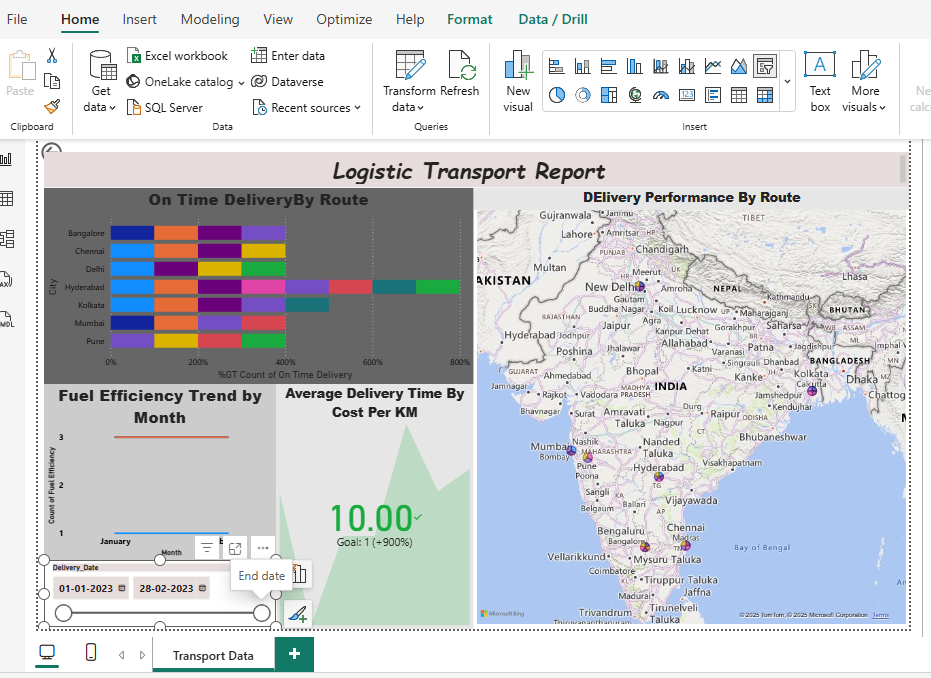

The page's visual inventory and layout, read from the dashboard file:
{"tool":"powerbi","page":{"name":"Transport Data","canvas":[1280,720],"ordinal":0},"visuals":[{"type":"barChart","title":"On Time DeliveryBy Route","fields":{"Category":["Projects (Trip_Data).Origin"],"Y":["Divide(CountNonNull(Vehicle_ID (Vehicle_Master).On Time Delivery), ScopedEval(CountNonNull(Vehicle_ID (Vehicle_Master).O"],"Series":["Projects (Trip_Data).Driver_ID"]},"box":[8.9,71.5,631.1,287.8],"z":0},{"type":"lineChart","title":"Fuel Efficiency Trend by Month","fields":{"Category":["Projects (Trip_Data).Delivery_Date.Variation.Date Hierarchy.Month"],"Y":["CountNonNull(Vehicle_ID (Vehicle_Master).Fuel Efficiency)"],"Series":["Vehicle_ID (Vehicle_Master).Vehicle_Type"]},"box":[8.8,360,340.9,258.6],"z":1000},{"type":"kpi","title":"Average Delivery Time By Cost Per KM","fields":{"Indicator":["Avg(Vehicle_ID (Vehicle_Master).Total No Trip)"],"TrendLine":["Vehicle_ID (Vehicle_Master).Total Distance_km"],"Goal":["CountNonNull(Vehicle_ID (Vehicle_Master).Cost Per Km)"]},"box":[350.4,359.7,289.6,359.7],"z":2000},{"type":"map","title":"DElivery Performance By Route","fields":{"Category":["Projects (Trip_Data).City"],"Series":["Vehicle_ID (Vehicle_Master).Vehicle_ID"],"Y":["Count(Projects (Trip_Data).Destination)"]},"box":[640,71.5,640,645.4],"z":3000},{"type":"actionButton","box":[0,0,100,40],"z":4000},{"type":"textbox","title":"Logistic Transport Report ","box":[8.9,19.7,1271.1,51.8],"z":5000},{"type":"slicer","fields":{"Values":["Projects (Trip_Data).Delivery_Date"]},"box":[8.8,618.6,340.9,98.4],"z":5001}]}

Visuals, with their boxes on the page's 1280x720 design canvas (x1, y1, x2, y2). These are canvas units, not pixel positions in the 931x678 screenshot, which may show the page scaled, cropped or inside an application window:
"On Time DeliveryBy Route" barChart: x1=9, y1=72, x2=640, y2=359
"Fuel Efficiency Trend by Month" lineChart: x1=9, y1=360, x2=350, y2=619
"Average Delivery Time By Cost Per KM" kpi: x1=350, y1=360, x2=640, y2=719
"DElivery Performance By Route" map: x1=640, y1=72, x2=1280, y2=717
actionButton: x1=0, y1=0, x2=100, y2=40
"Logistic Transport Report " textbox: x1=9, y1=20, x2=1280, y2=72
slicer - Projects (Trip_Data).Delivery_Date: x1=9, y1=619, x2=350, y2=717
